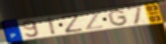7: (126, 4, 144, 26)
9: (22, 20, 41, 38)
G: (107, 9, 129, 27)
I: (46, 16, 58, 36)
Z: (60, 13, 85, 34), (82, 11, 105, 31)
